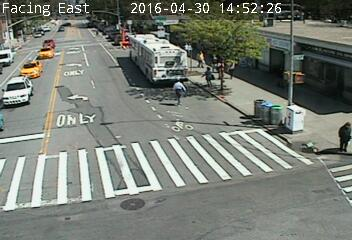neg: (3, 129, 29, 164), (241, 46, 266, 78), (272, 107, 292, 133), (283, 60, 303, 86), (294, 17, 314, 42), (27, 71, 46, 96), (104, 47, 120, 68), (14, 92, 30, 112), (42, 37, 57, 57), (55, 64, 70, 84), (73, 53, 88, 73), (123, 27, 138, 47), (148, 28, 160, 44), (1, 56, 12, 73), (56, 19, 68, 34), (111, 30, 122, 45), (58, 102, 69, 117), (258, 107, 269, 120), (39, 22, 47, 32), (31, 55, 38, 64)
pos: (331, 119, 351, 154), (168, 76, 190, 106), (199, 64, 218, 90), (207, 50, 224, 73), (223, 58, 240, 80), (192, 48, 208, 69), (20, 31, 30, 44), (93, 27, 102, 38), (14, 34, 21, 43)
